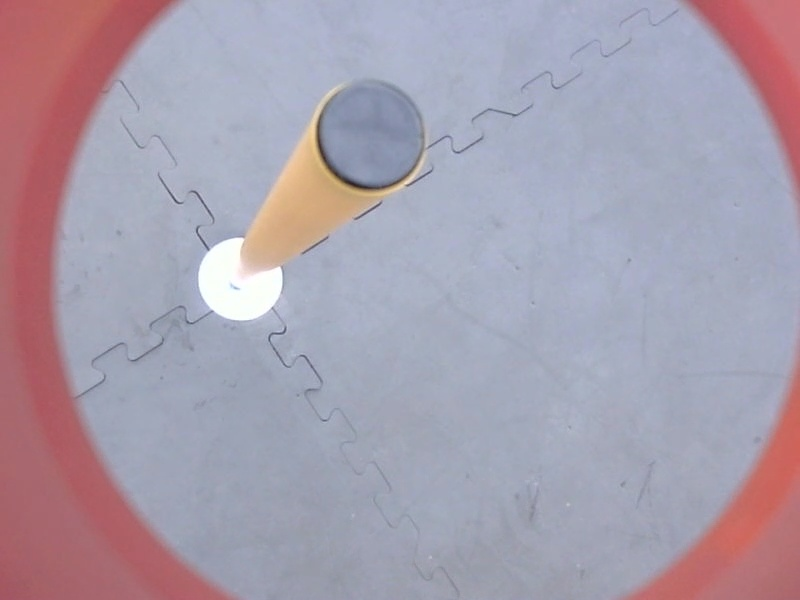tip: (305, 72, 436, 198)
